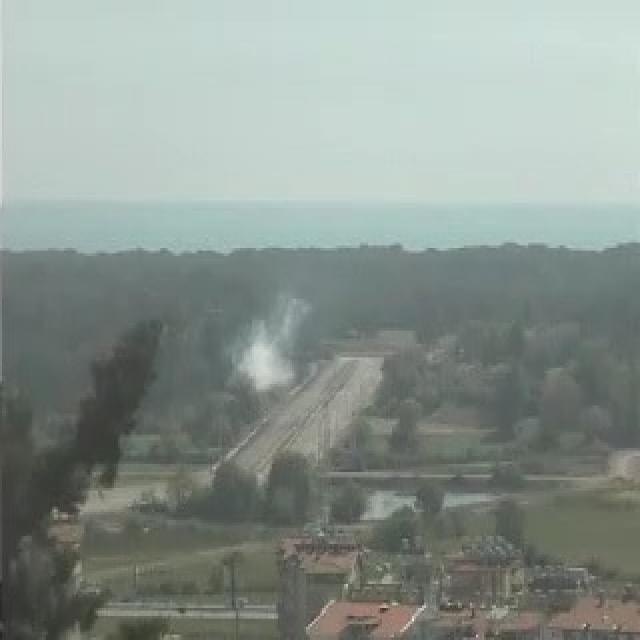smoke: (218, 283, 310, 396)
